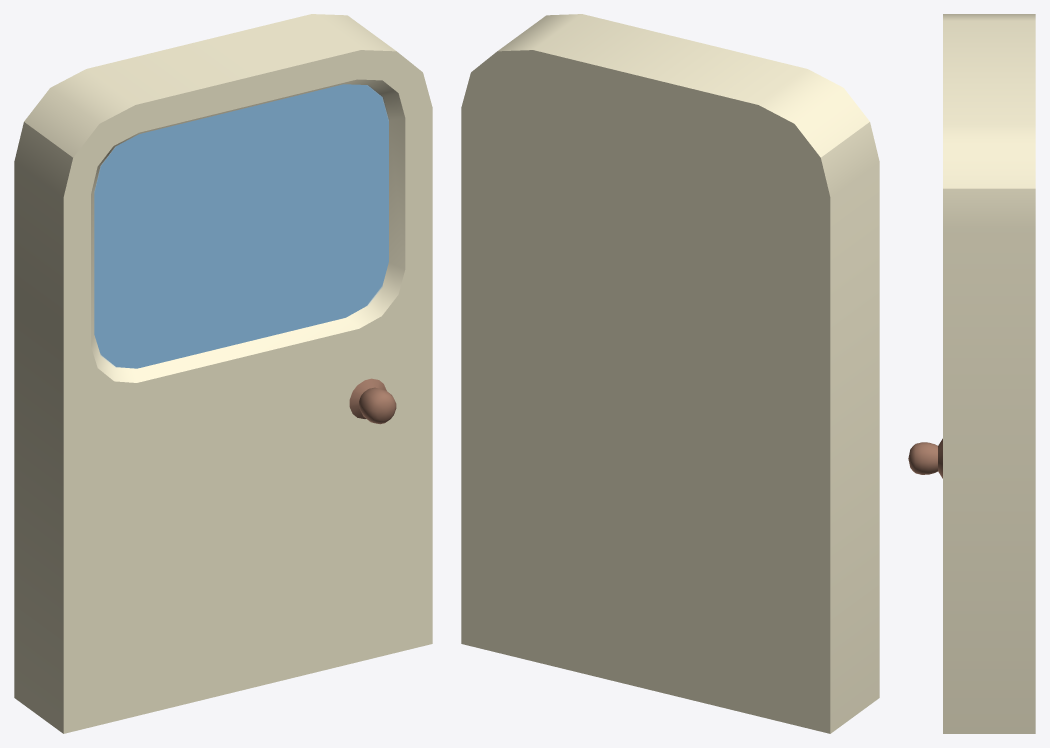
File: Door.fbx
The picture shows the model from 3 angles, left to right: view 1: azimuth 30°, elevation 25°; view 2: azimuth 150°, elevation 25°; view 3: azimuth 270°, elevation 25°; orthographic projection. The views are drawn at different scales.
Visible parts, largest first — view 1: Cube, Circle; view 2: Cube; view 3: Cube, Circle.
Part boxes in pixels (<box>): Cube: <box>14,14,432,733</box>; Circle: <box>349,378,396,424</box>; Cube: <box>461,14,879,733</box>; Cube: <box>943,14,1035,733</box>; Circle: <box>908,438,942,478</box>.
Size of the model in its own units: 200 by 317 by 63.37.
1 material, 1 textured.
